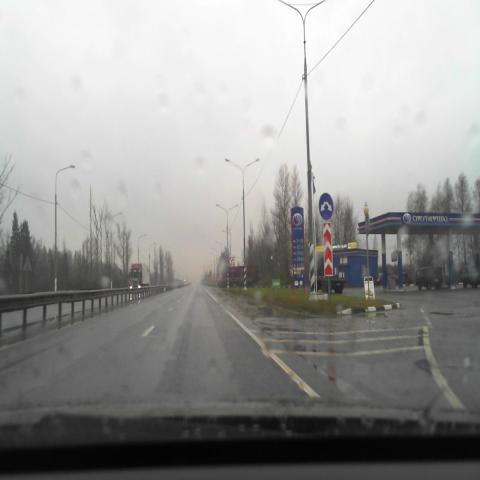4_2_3: (319, 193, 333, 220)
